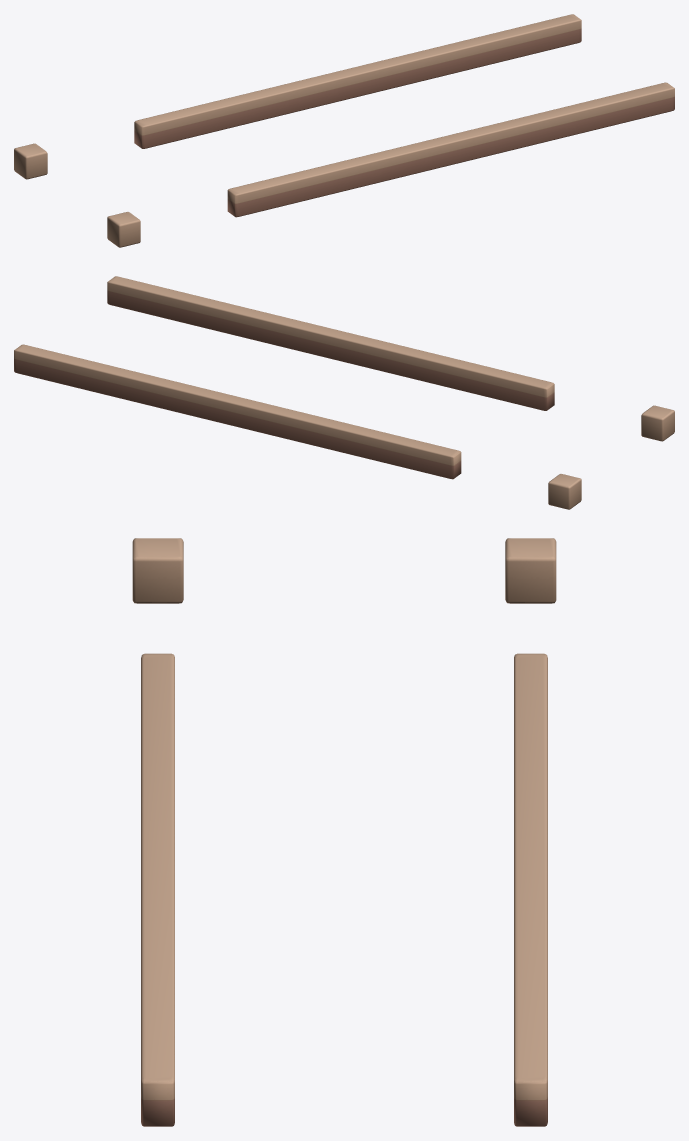
File: Props.fbx
The picture shows the model from 3 angles, top to bottom: view 1: azimuth 30°, elevation 25°; view 2: azimuth 150°, elevation 25°; view 3: azimuth 270°, elevation 25°; orthographic projection. The views are drawn at different scales.
Visible parts, largest first — view 1: Box20-3_1 (1), Box20-3_1, Box1-5 (8), Box1-5 (7); view 2: Box20-3_1, Box20-3_1 (1), Box1-5 (7), Box1-5 (8); view 3: Box20-3_1, Box20-3_1 (1), Box1-5 (7), Box1-5 (8).
Boxes of the visible parts, left/top/right/bottom form: Box20-3_1 (1): left=134, top=14, right=581, bottom=148; Box20-3_1: left=227, top=82, right=674, bottom=217; Box1-5 (8): left=14, top=143, right=47, bottom=179; Box1-5 (7): left=107, top=212, right=140, bottom=247; Box20-3_1: left=107, top=276, right=554, bottom=410; Box20-3_1 (1): left=14, top=344, right=461, bottom=479; Box1-5 (7): left=641, top=405, right=674, bottom=441; Box1-5 (8): left=548, top=474, right=581, bottom=509; Box20-3_1: left=141, top=653, right=174, bottom=1126; Box20-3_1 (1): left=514, top=653, right=547, bottom=1126; Box1-5 (7): left=132, top=538, right=183, bottom=603; Box1-5 (8): left=505, top=538, right=556, bottom=603.
Bounding box in the file's own units: 38.05 × 1.5 × 12.5.
